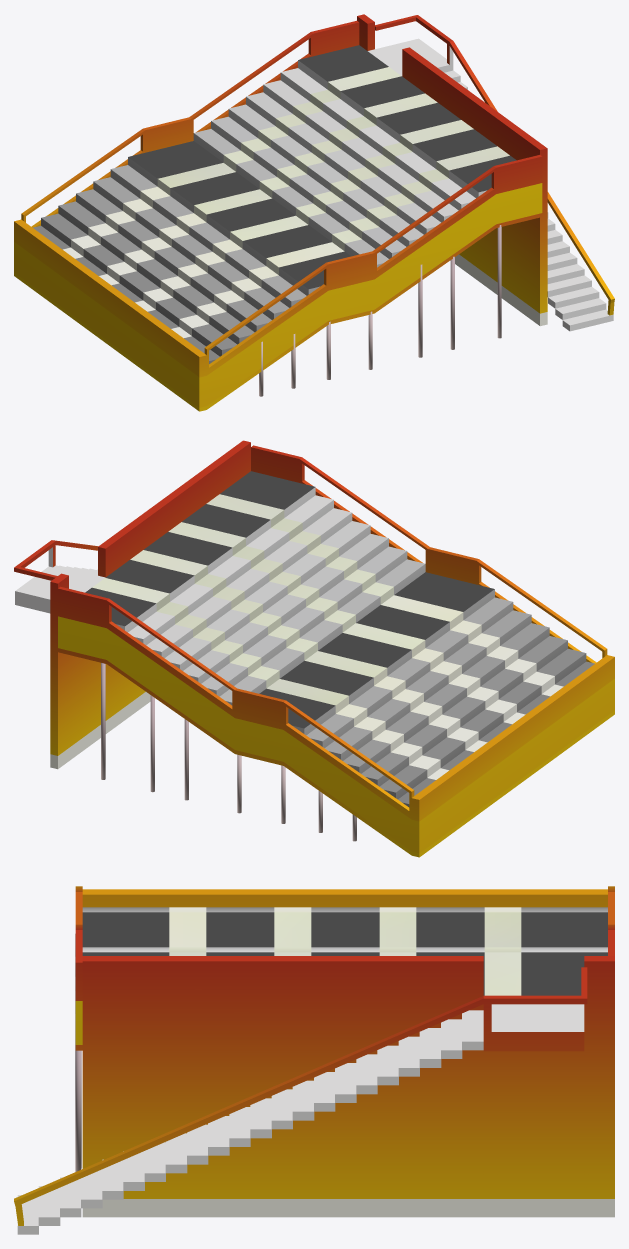
The model's file is platform1.fbx.
The picture shows the model from 3 angles, top to bottom: view 1: azimuth 30°, elevation 25°; view 2: azimuth 150°, elevation 25°; view 3: azimuth 270°, elevation 25°; orthographic projection. The views are drawn at different scales.
Visible parts, largest first — view 1: Cube.003; view 2: Cube.003; view 3: Cube.003.
Part boxes in pixels (x1=…): Cube.003: x1=14, y1=14, x2=614, y2=411; Cube.003: x1=14, y1=440, x2=614, y2=857; Cube.003: x1=14, y1=886, x2=614, y2=1234.
Size of the model in its own units: 1511 by 645 by 1372.
